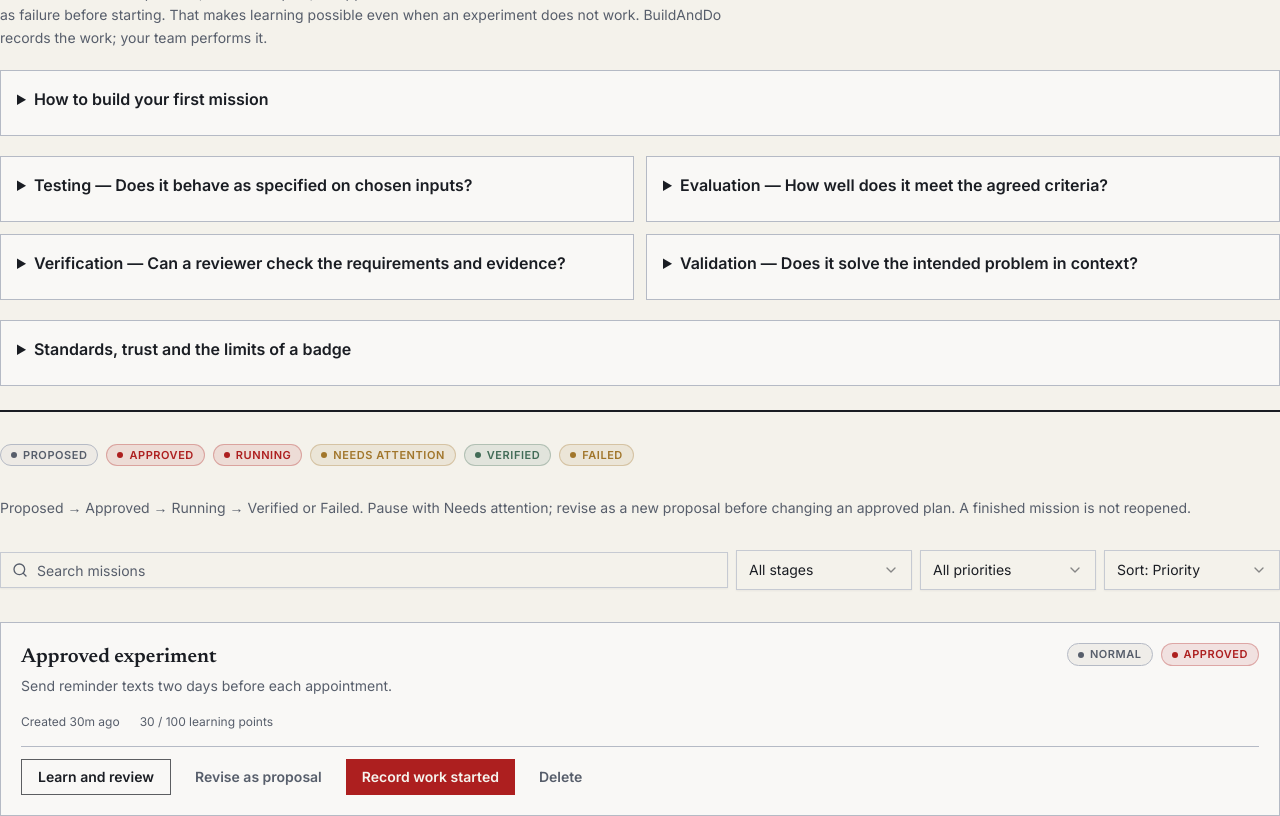
MissionsPage › records work started without invoking an automation and offers pause and review
The image size is (1280, 816).
(page scrolled)
Click the button "Record work started" at (430,777), box [346, 759, 515, 795]
(page scrolled)
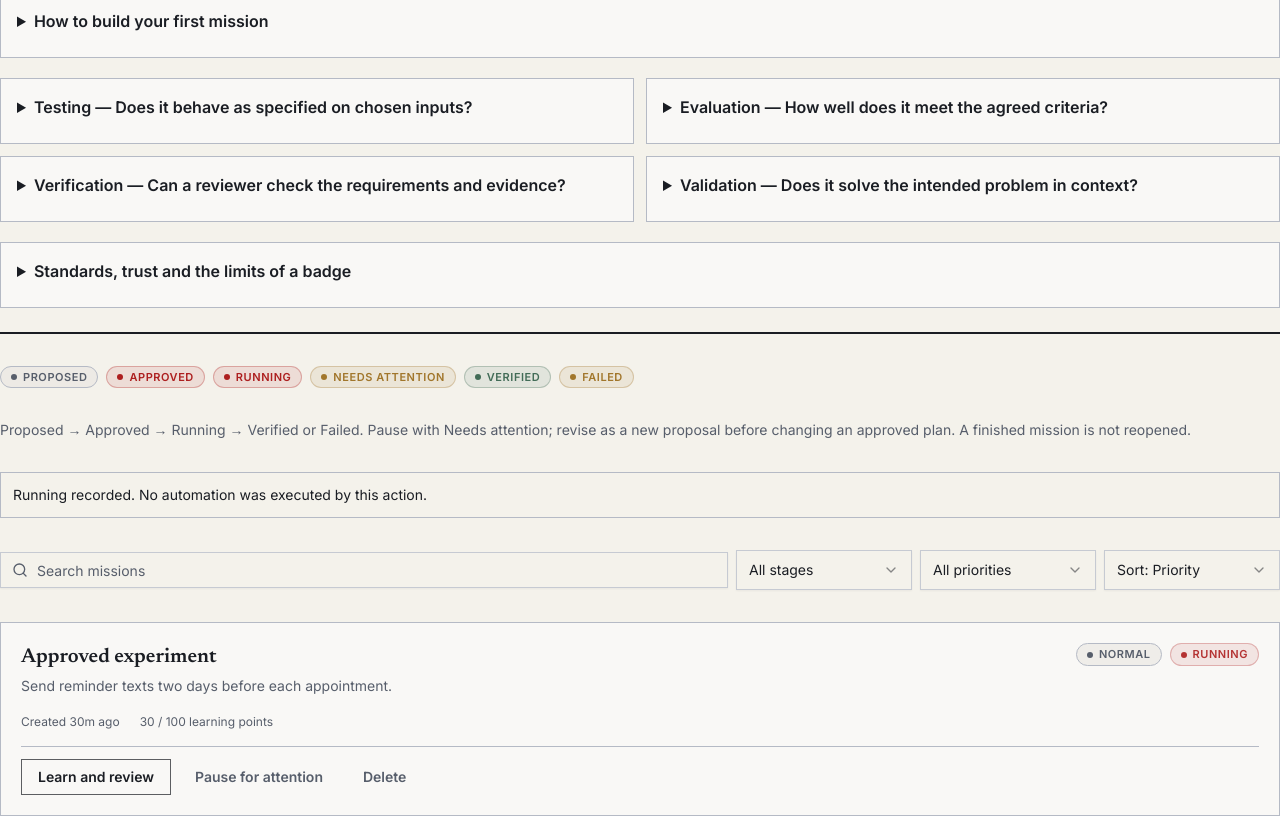
Check: the button "Pause for attention" is shown, box [179, 759, 339, 795]
Click the button "Learn and review" at (96,777), box [21, 759, 171, 795]
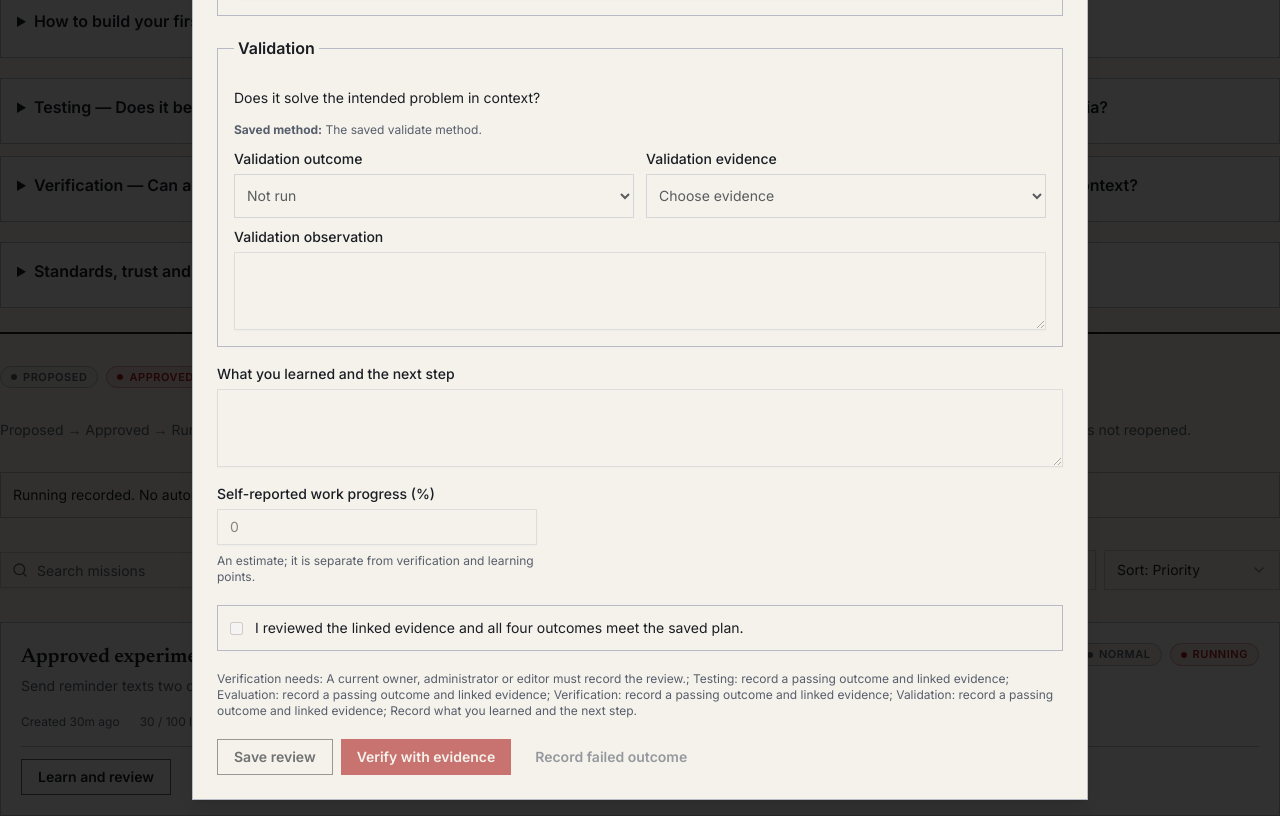
Check: the button "Verify with evidence" is disabled, box [341, 739, 511, 775]
